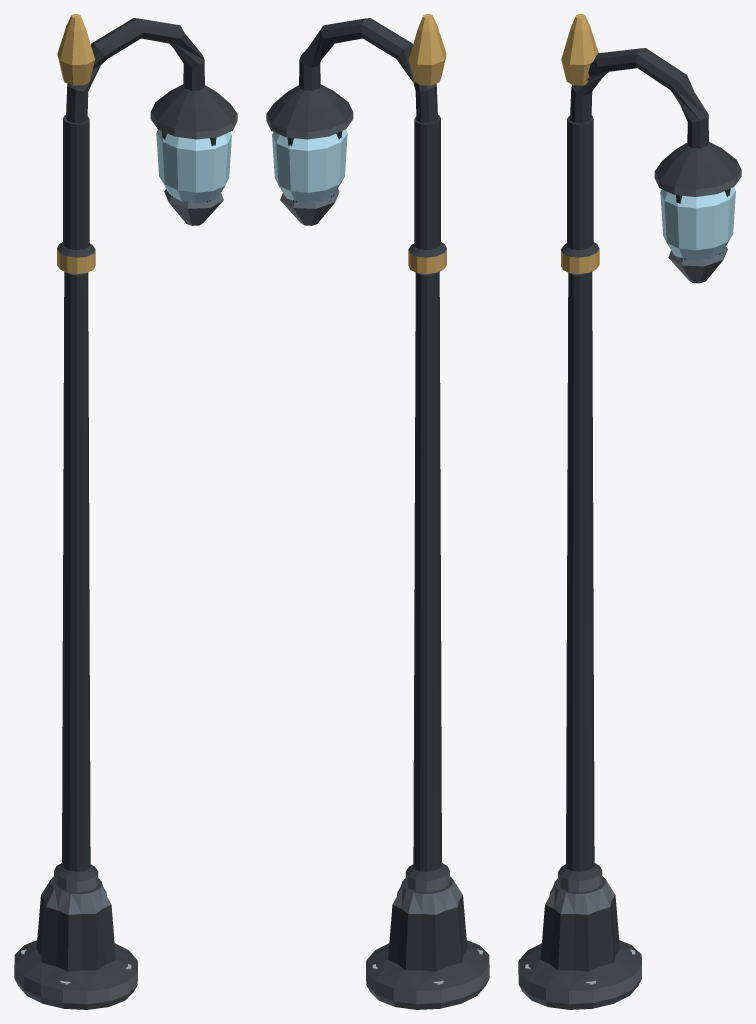
File: nyc_street_lamp.fbx
3 renders of one model, left to right at view 1: azimuth 30°, elevation 25°; view 2: azimuth 150°, elevation 25°; view 3: azimuth 330°, elevation 25°, orthographic.
Visible parts, largest first — view 1: nyc_street_lamp; view 2: nyc_street_lamp; view 3: nyc_street_lamp.
Boxes of the visible parts, x1,y1,x2,y2 form: nyc_street_lamp: (14,14,237,1009); nyc_street_lamp: (266,14,489,1009); nyc_street_lamp: (518,14,741,1009).
Size of the model in its own units: 280 by 1250 by 160.
